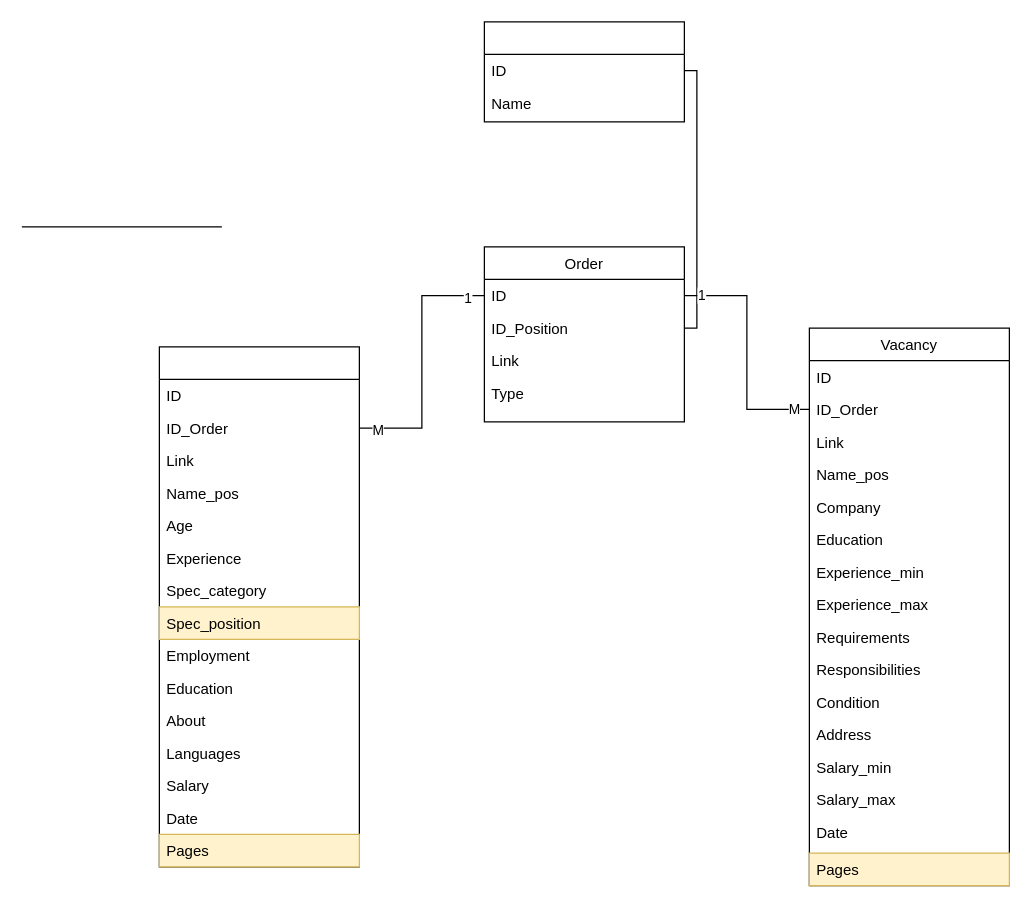
Some shapes in this 1031 by 911 pixel diagram are drawn without their labels. The shapes that lost their labels are listed below. From the top down, each one's box as (x1, y1, x2, y2) in pixels, then its label:
(483, 21, 684, 122): Position
(158, 346, 359, 867): Resume
